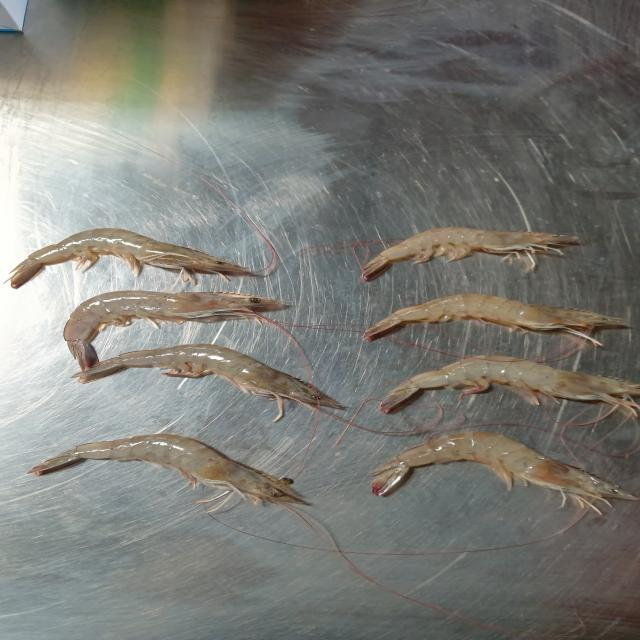shrimp: (64, 290, 341, 420), (372, 431, 635, 508), (31, 434, 292, 501), (381, 355, 640, 415), (11, 229, 248, 288), (363, 294, 624, 340), (363, 228, 576, 280)
